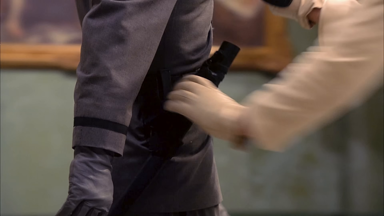bladed_weapon: (115, 34, 241, 215)
